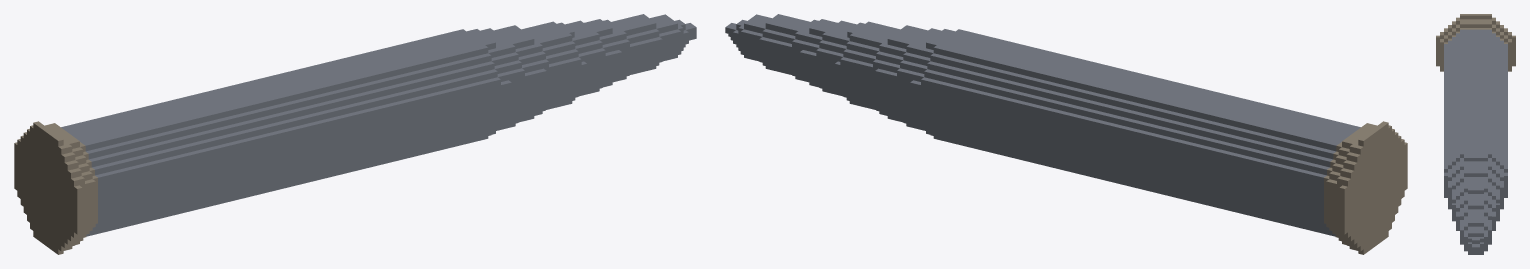
The model's file is drift.glb.
The picture shows the model from 3 angles, left to right: view 1: azimuth 30°, elevation 25°; view 2: azimuth 150°, elevation 25°; view 3: azimuth 270°, elevation 25°; orthographic projection. The views are drawn at different scales.
Parts seen in each view (by area): view 1: drift:compound; view 2: drift:compound; view 3: drift:compound.
Boxes of the visible parts, box(x1,y1,x2,y2) form: drift:compound: box(14, 14, 696, 254); drift:compound: box(725, 14, 1407, 254); drift:compound: box(1436, 14, 1515, 254).
Size of the model in its own units: 0.238 by 0.04 by 0.04.
